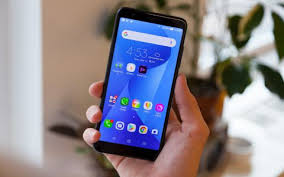asus: (94, 4, 188, 162)
